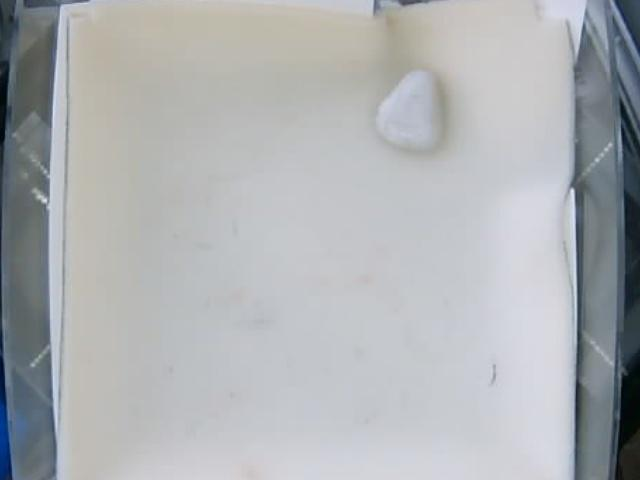Pebble: (376, 70, 440, 153)
